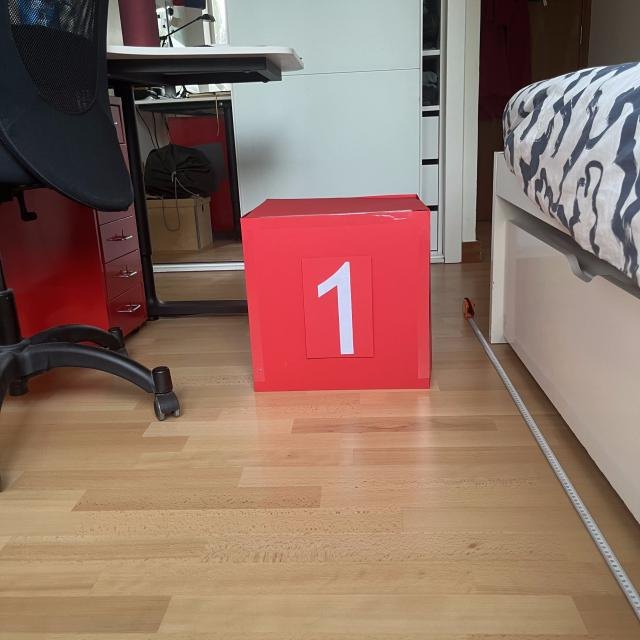box: (235, 190, 436, 394)
